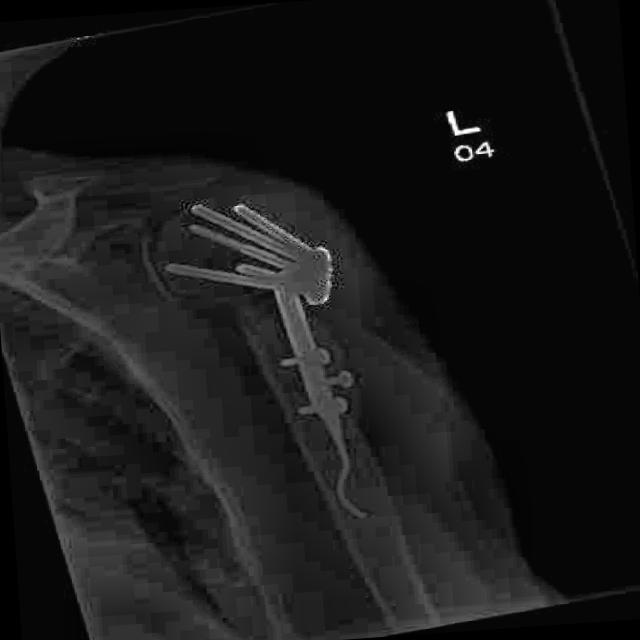shoulder fracture: (211, 265, 337, 354)
